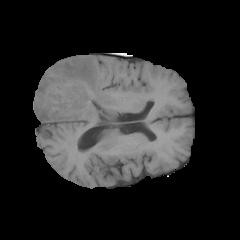glioma: (34, 58, 107, 124)
